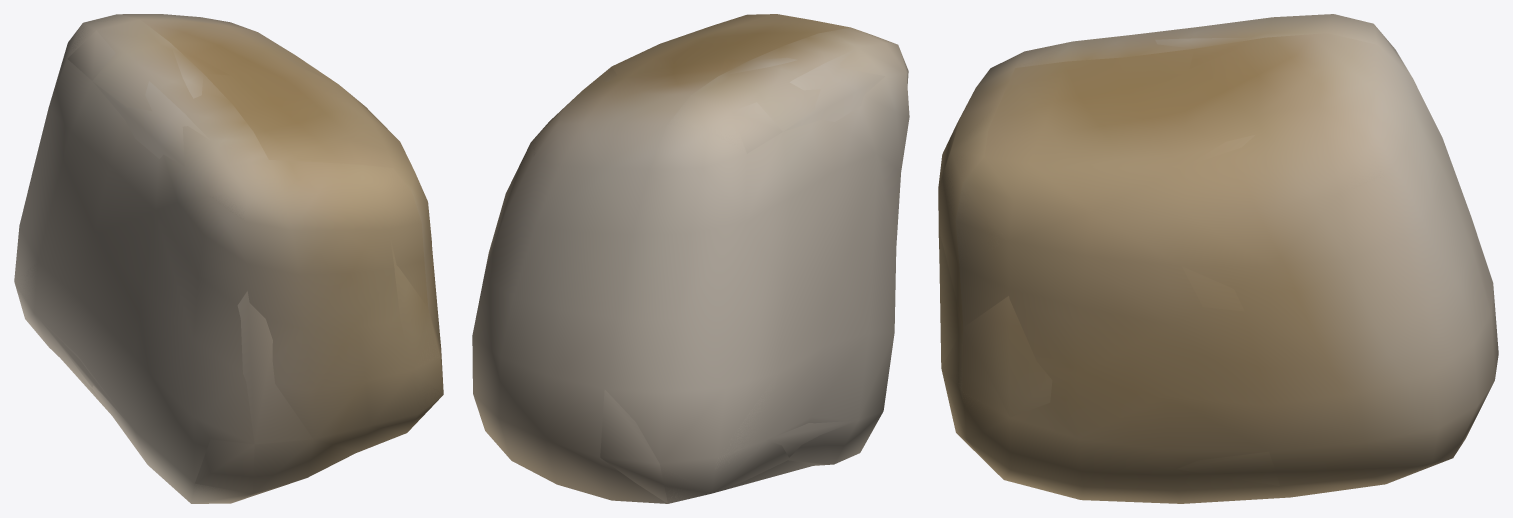
File: L carpale primum.fbx
The picture shows the model from 3 angles, left to right: view 1: azimuth 30°, elevation 25°; view 2: azimuth 150°, elevation 25°; view 3: azimuth 270°, elevation 25°; orthographic projection. The views are drawn at different scales.
Parts seen in each view (by area): view 1: L carpale primum, L carpale primum low; view 2: L carpale primum, L carpale primum low; view 3: L carpale primum, L carpale primum low.
Boxes of the visible parts, x1,y1,x2,y2 form: L carpale primum: (14, 14, 443, 503); L carpale primum low: (16, 15, 442, 502); L carpale primum: (472, 14, 909, 503); L carpale primum low: (533, 14, 908, 503); L carpale primum: (938, 14, 1498, 503); L carpale primum low: (938, 24, 1445, 485).
Bounding box in the file's own units: 0.7313 × 0.9986 × 1.14.
